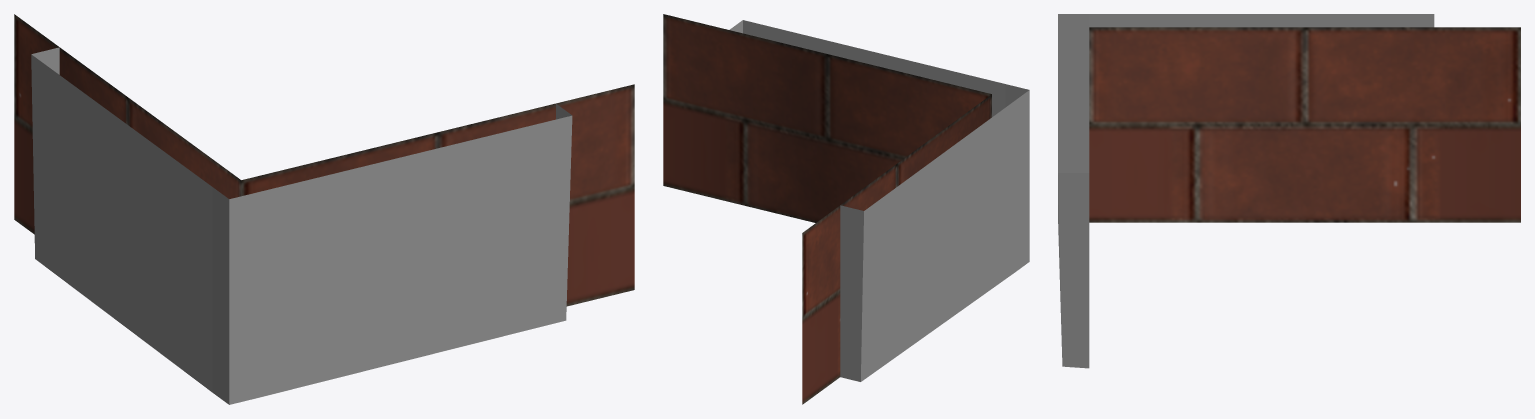
Rendered from BRICK_STONE_BASE_CORNER 1.fbx.
The picture shows the model from 3 angles, left to right: view 1: azimuth 30°, elevation 25°; view 2: azimuth 150°, elevation 25°; view 3: azimuth 270°, elevation 25°; orthographic projection. The views are drawn at different scales.
Visible parts, largest first — view 1: Brock_Stone_Base_Corner; view 2: Brock_Stone_Base_Corner; view 3: Brock_Stone_Base_Corner.
Boxes of the visible parts, <box> form: Brock_Stone_Base_Corner: <box>14,14,634,404</box>; Brock_Stone_Base_Corner: <box>663,14,1029,404</box>; Brock_Stone_Base_Corner: <box>1058,14,1520,368</box>.
Size of the model in its own units: 1.07 by 0.4998 by 1.07.
